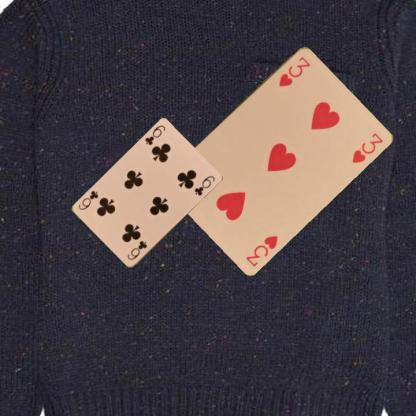3h: (243, 232, 279, 268), (276, 54, 312, 88)
6c: (142, 122, 167, 147), (124, 238, 149, 261)
